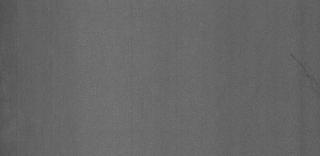water spot: (286, 48, 320, 92)
